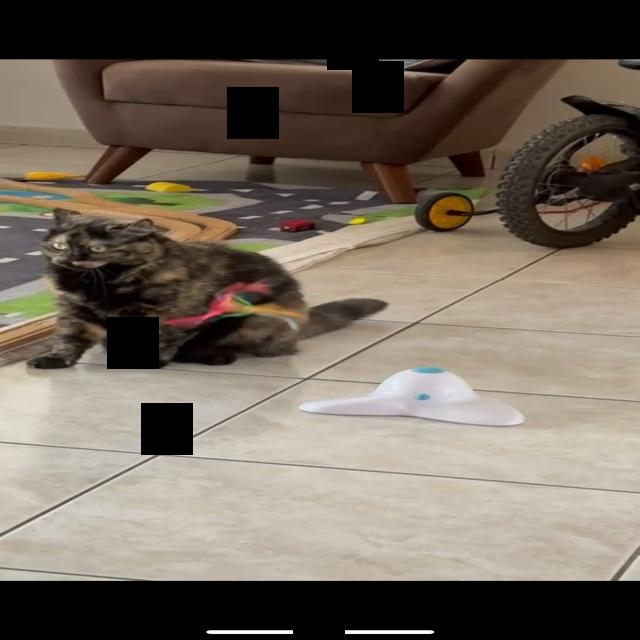authorized: (26, 206, 388, 370)
